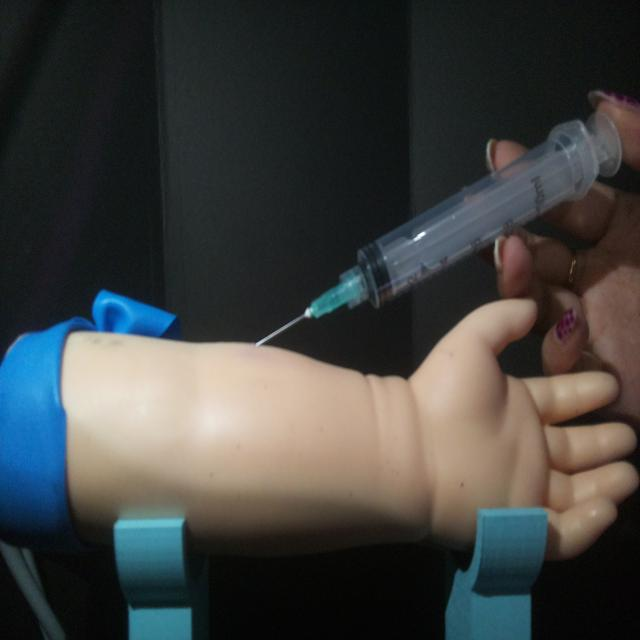27deg: (250, 101, 625, 351)
